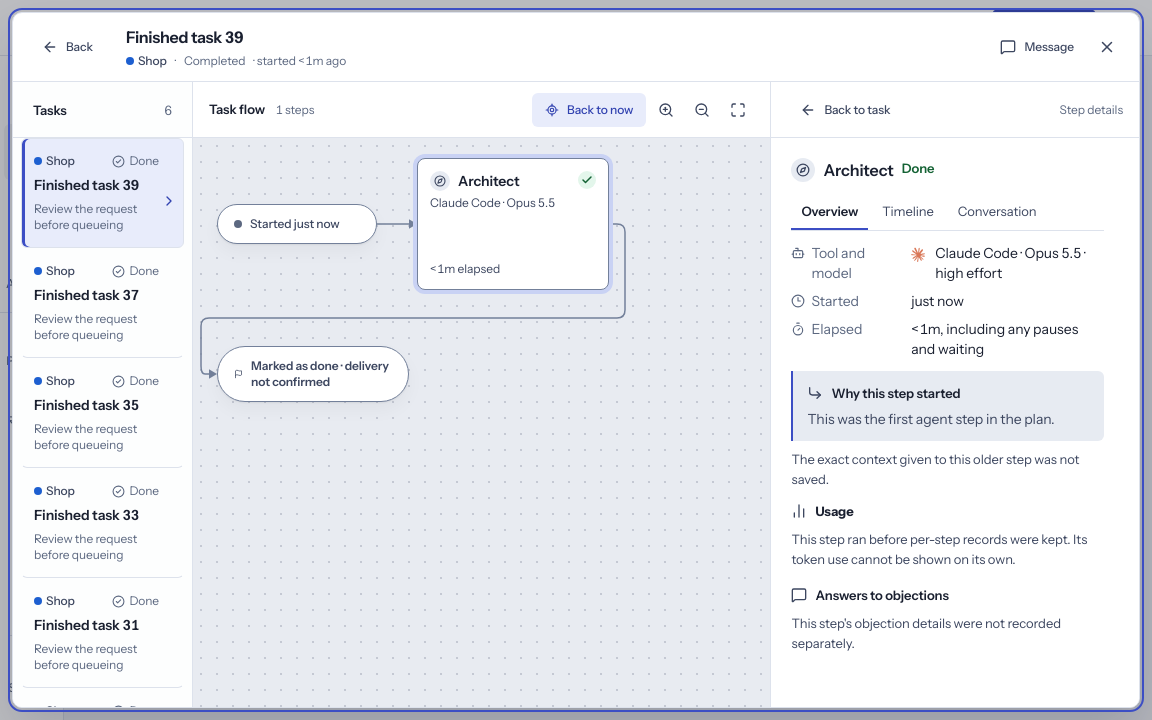
History › keeps product scope and search on the engine query, and restores a linked node
Expected: the number of links with class "history-card" is 6, 96,191 -> 427,321; 443,191 -> 773,321; 789,191 -> 1120,321; 96,337 -> 427,467; 443,337 -> 773,467; 789,337 -> 1120,467
Expected: the heading with id "journey-details-title" shows "Architect", 823,160 -> 894,180
Click the button named "Close" at point(1107, 47), box 1091,31 -> 1123,63
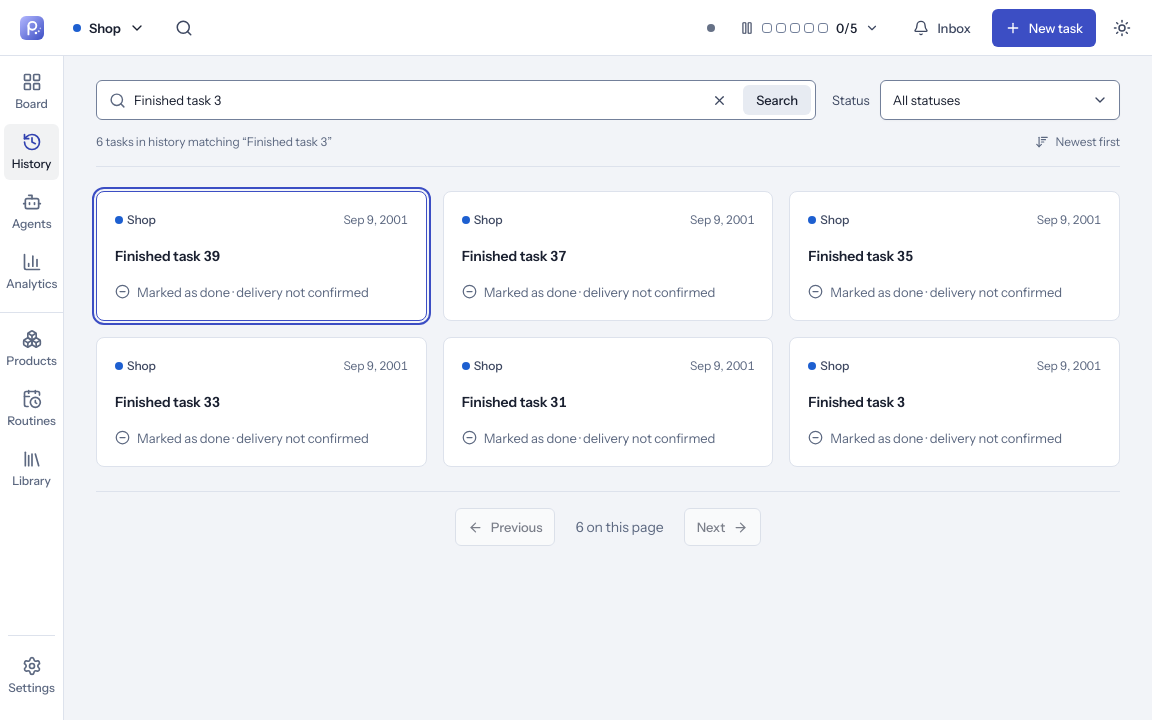
Expected: the heading "Finished task 3" is shown, 808,393 -> 905,411
Click the link "Board" at point(32, 92), box 15,72 -> 48,111
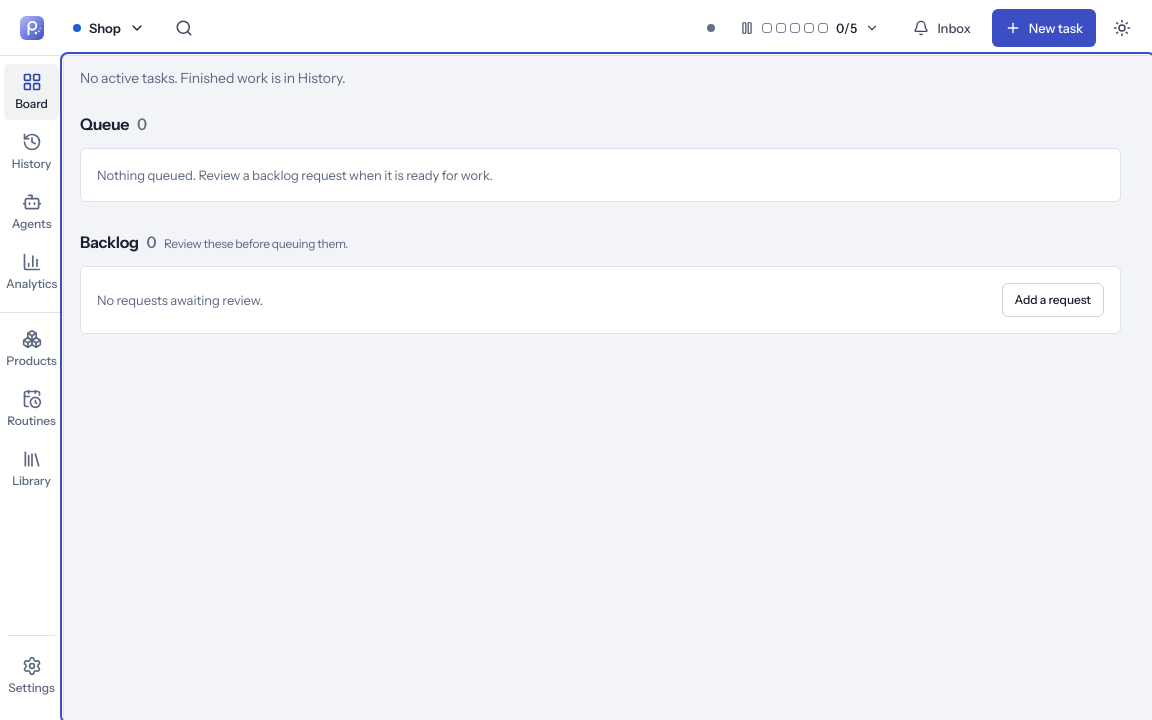
Result: the link "Shop Sep 9, 2001 Finished task 39 Marked as done · delivery not confirmed" is gone
Result: the element with class "board" is shown at 80,69 -> 1121,334
